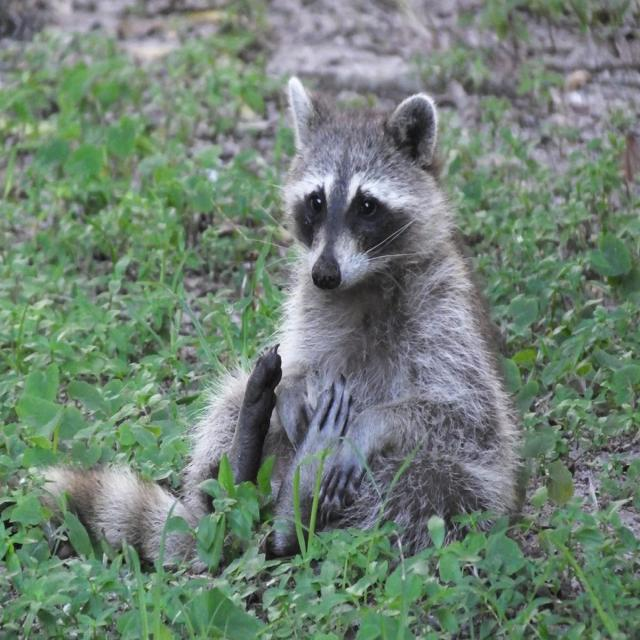Raccoon: (44, 66, 529, 558)
